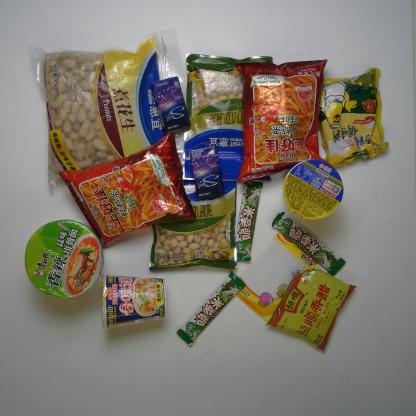Chocolate: (176, 269, 247, 348), (271, 210, 346, 278), (234, 180, 264, 262)
Dried Food: (23, 26, 178, 198)
Dried Fruit: (181, 51, 274, 184), (148, 150, 238, 274)
Gum: (150, 75, 192, 133), (189, 145, 225, 201)
Instant Noodles: (24, 219, 106, 300), (100, 271, 168, 333), (282, 158, 345, 222)
Puffed Food: (56, 129, 196, 250), (234, 57, 329, 185)
Seasoner: (264, 267, 358, 353), (318, 66, 390, 170)
Stationery: (235, 232, 320, 324)
